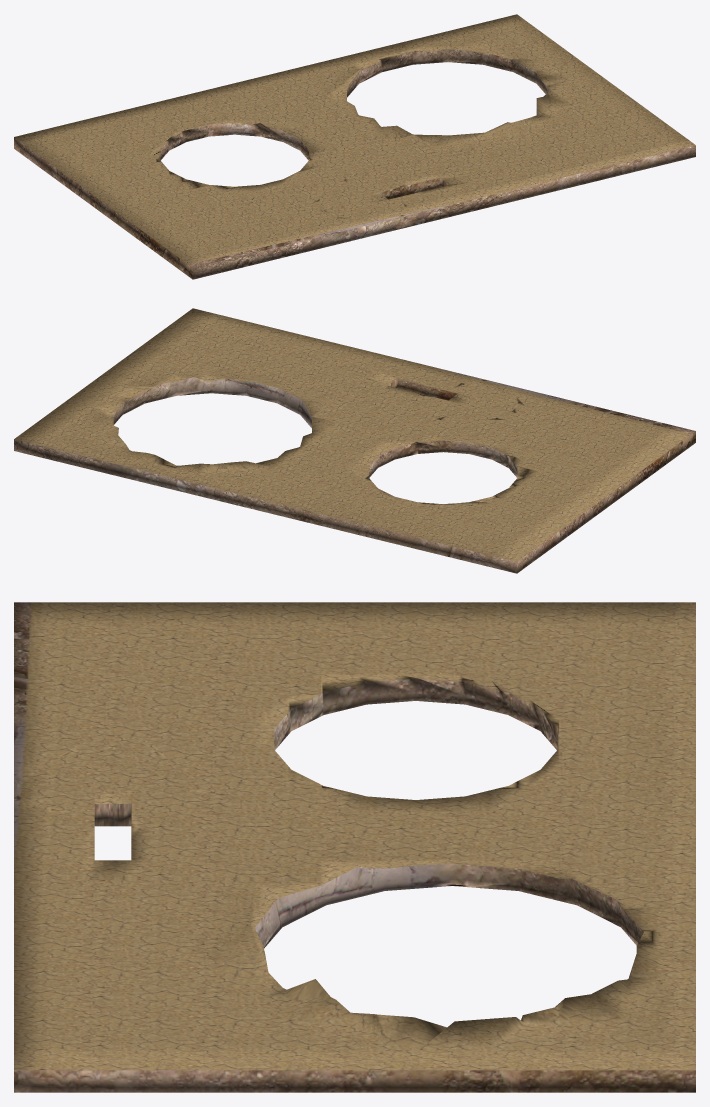
Rendered from top.obj.
3 renders of one model, top to bottom at view 1: azimuth 30°, elevation 25°; view 2: azimuth 150°, elevation 25°; view 3: azimuth 270°, elevation 25°, orthographic. The views are drawn at different scales.
Visible parts, largest first — view 1: top; view 2: top; view 3: top.
Part boxes in pixels (left/top/right/bottom): top: left=14, top=14, right=695, bottom=279; top: left=14, top=308, right=695, bottom=573; top: left=14, top=602, right=695, bottom=1092.
Bounding box in the file's own units: 49.31 × 1.92 × 30.37.
Materials: 1 (1 with a texture image).
